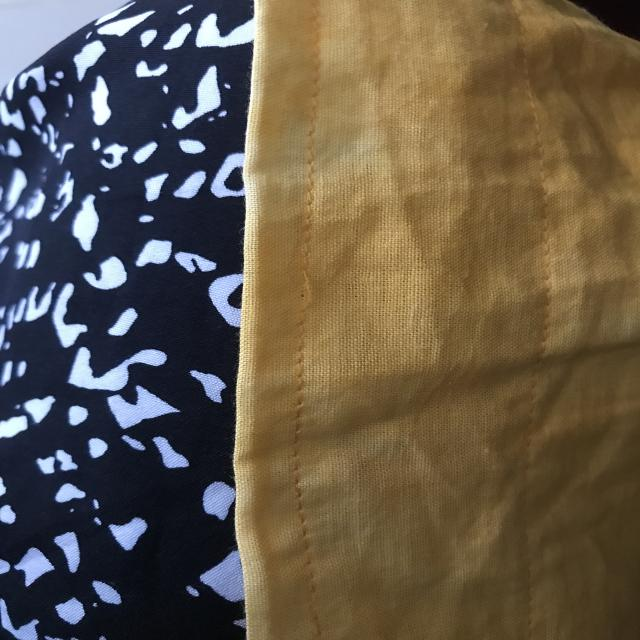skip: (280, 261, 333, 323)
